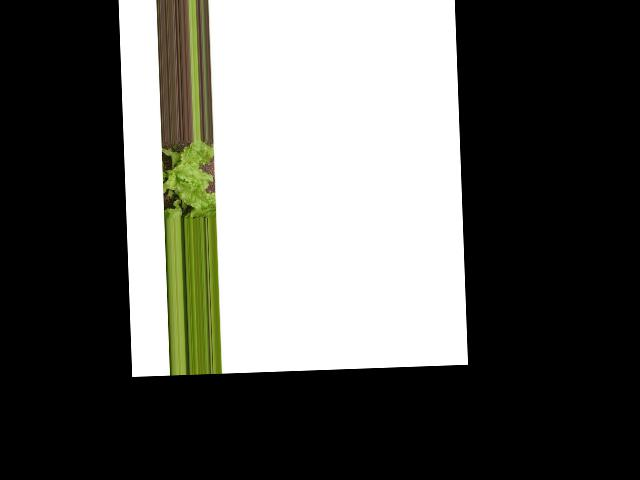lettuce: (157, 140, 213, 220)
